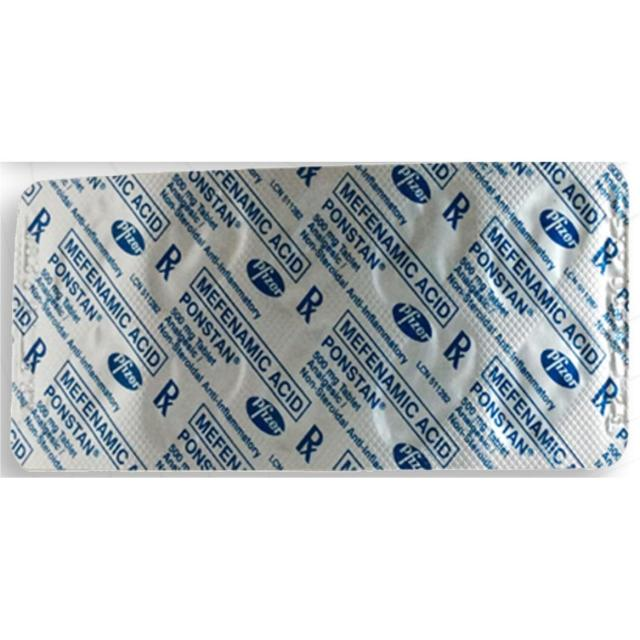blister: (11, 158, 634, 476)
